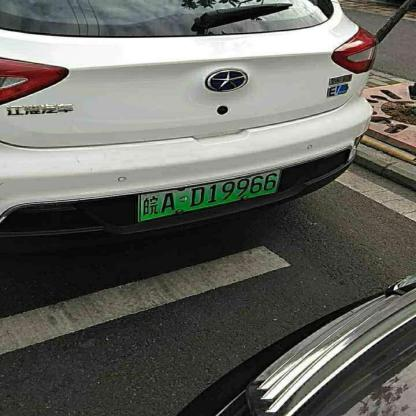lp: (140, 169, 281, 221)
